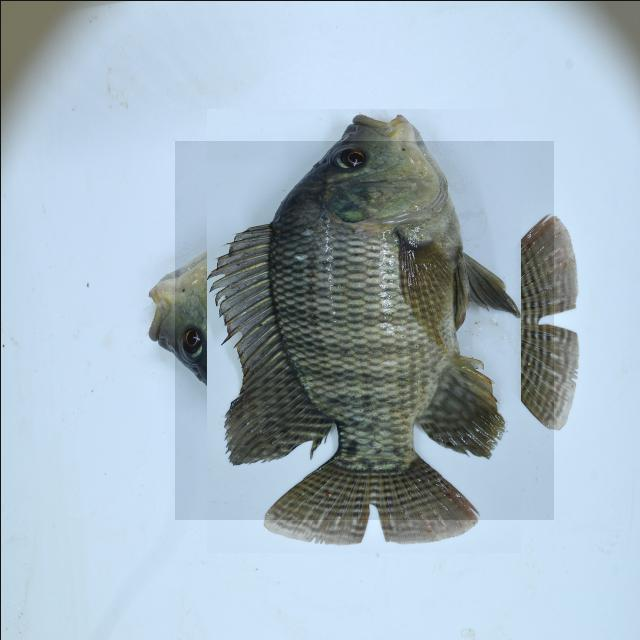Healthy Fish: (174, 140, 553, 519)
